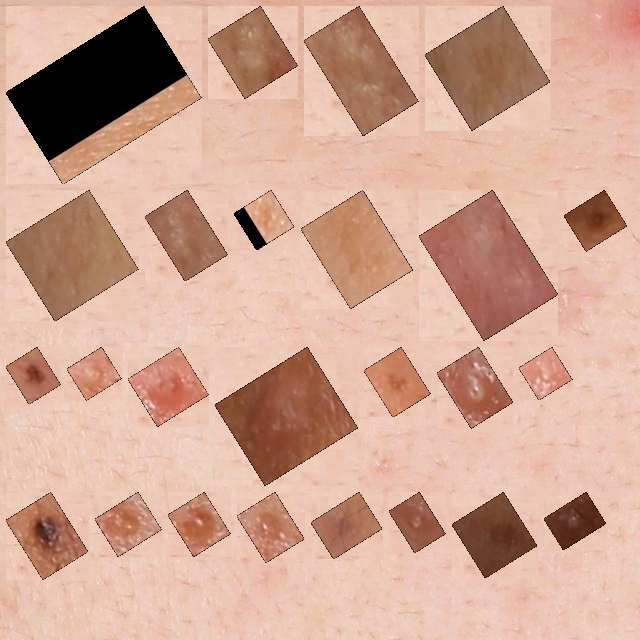hypertrophic_scar: (430, 201, 547, 329), (226, 358, 347, 474), (315, 17, 407, 124), (219, 17, 287, 87), (156, 201, 217, 270)
melasma: (17, 17, 190, 173), (17, 201, 127, 310), (436, 17, 539, 119), (312, 201, 402, 297), (245, 201, 283, 239)
nevus: (463, 503, 526, 567), (17, 503, 77, 568), (322, 503, 371, 548), (375, 358, 419, 406), (575, 201, 616, 240), (17, 358, 50, 393)
pustule: (139, 358, 198, 415), (448, 358, 502, 417), (106, 503, 151, 545), (179, 503, 219, 545), (555, 503, 595, 539), (400, 503, 434, 542), (78, 358, 110, 389), (530, 358, 561, 389)
